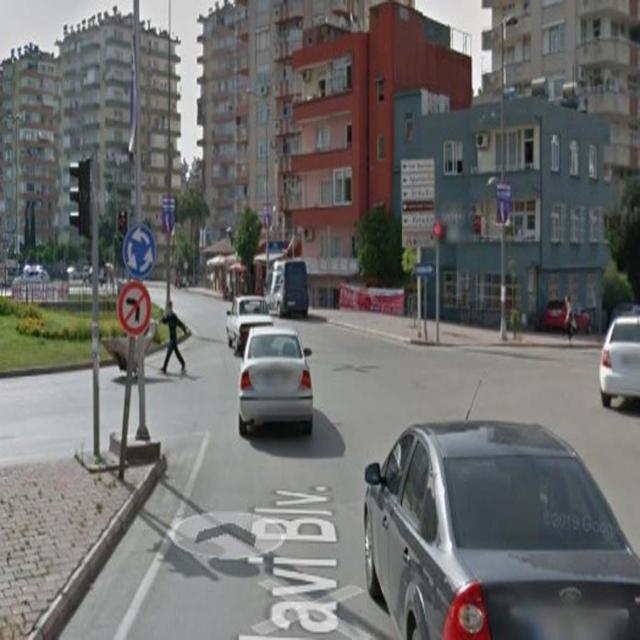soladonulmez: (118, 282, 152, 335)
